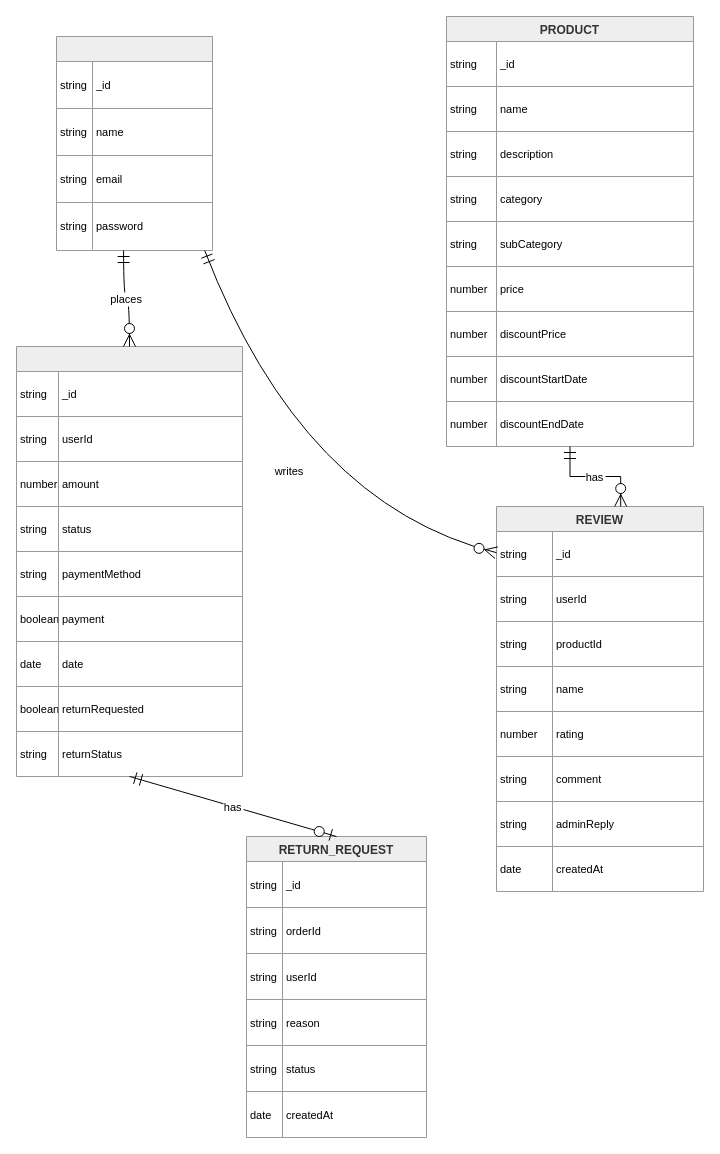
The diagram is 720 pixels wide and 1154 high, and some of its shapes have lost their labels. Here are the shapes that lost their labels. From the top down, the box of each, then its label:
(56, 36, 212, 250): USER
(16, 346, 242, 776): ORDER
